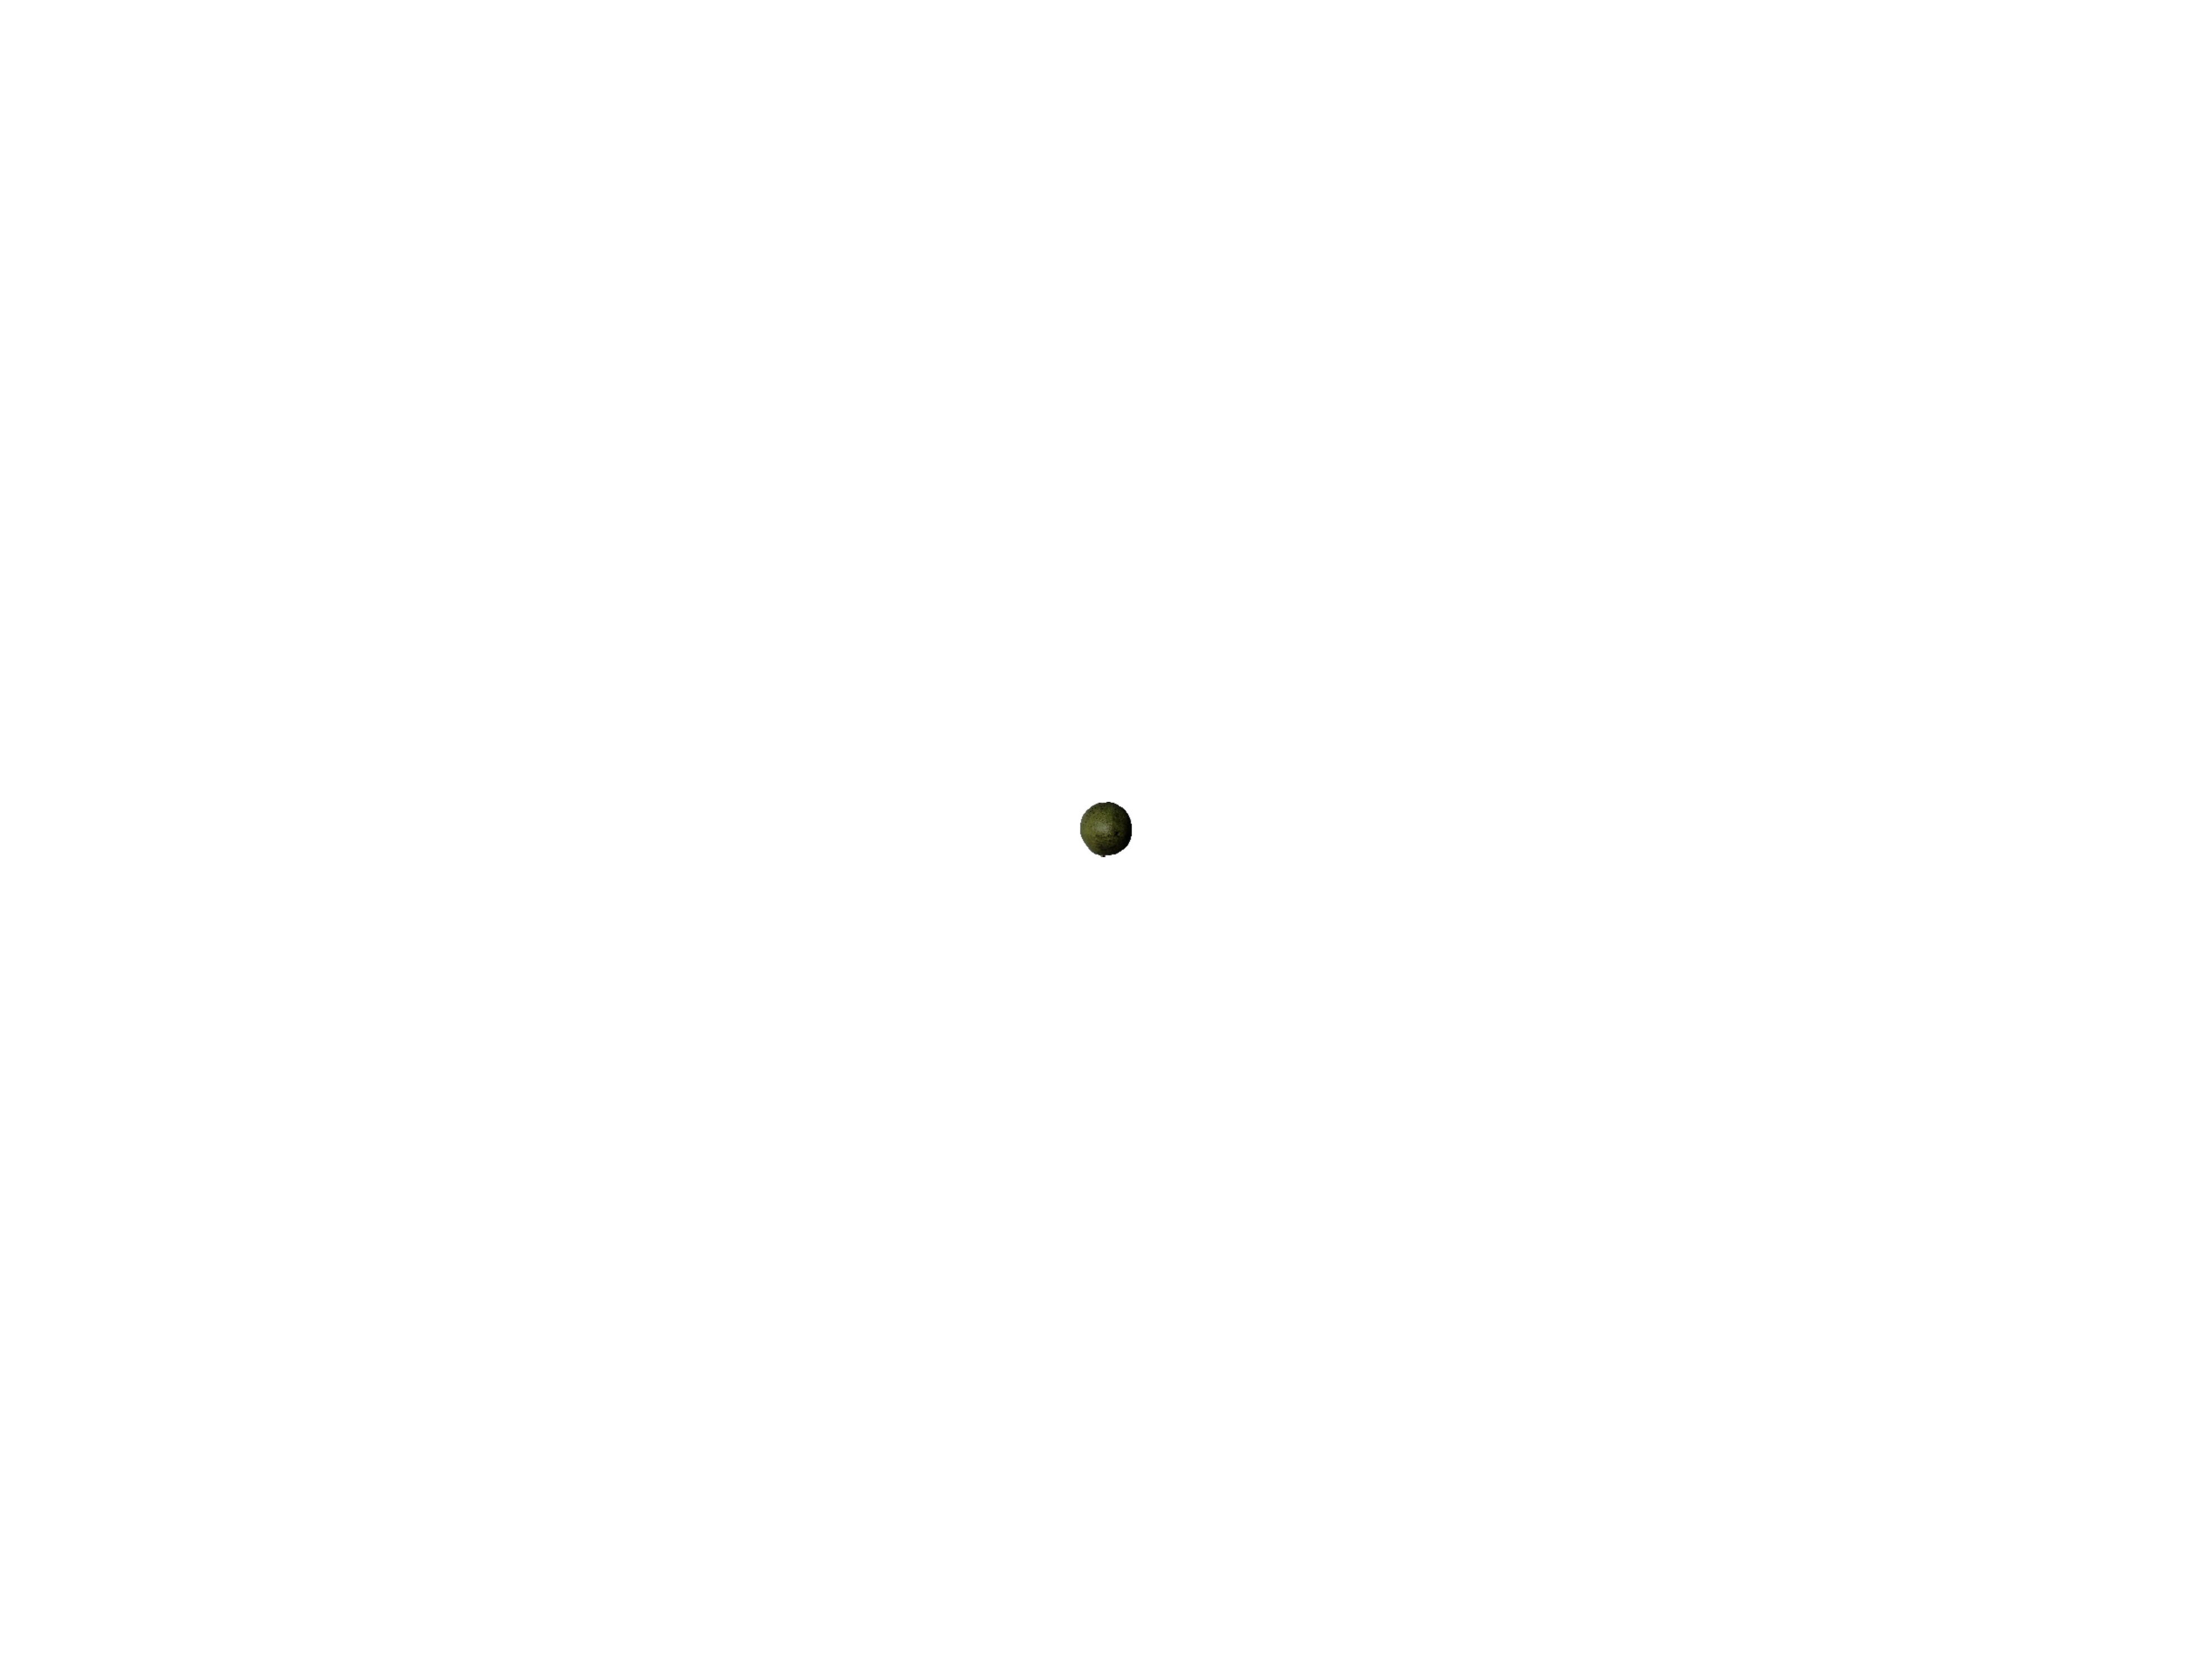abacate: (1076, 795, 1137, 863)
